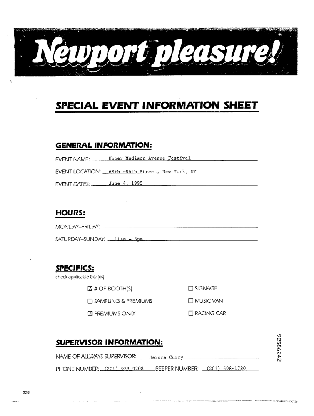checkbox: (87, 285, 93, 292), (87, 310, 93, 317), (188, 310, 194, 317), (188, 285, 194, 292), (87, 298, 93, 304), (188, 298, 194, 304)
textline: (91, 156, 258, 162), (101, 223, 258, 229), (102, 168, 258, 174), (106, 236, 258, 242), (90, 181, 258, 186), (139, 355, 259, 360), (201, 365, 258, 371), (99, 366, 155, 371)
